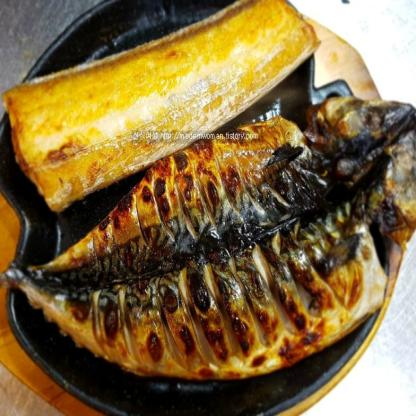Peixe: (14, 71, 416, 383)
